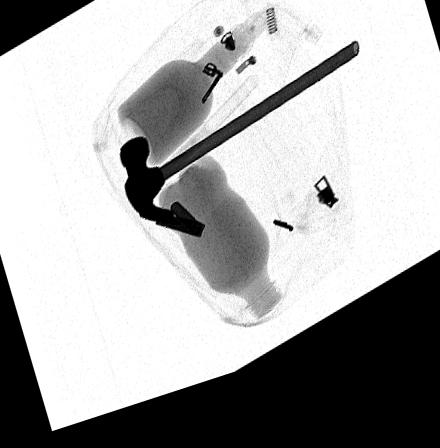Hammer: (119, 61, 360, 236)
